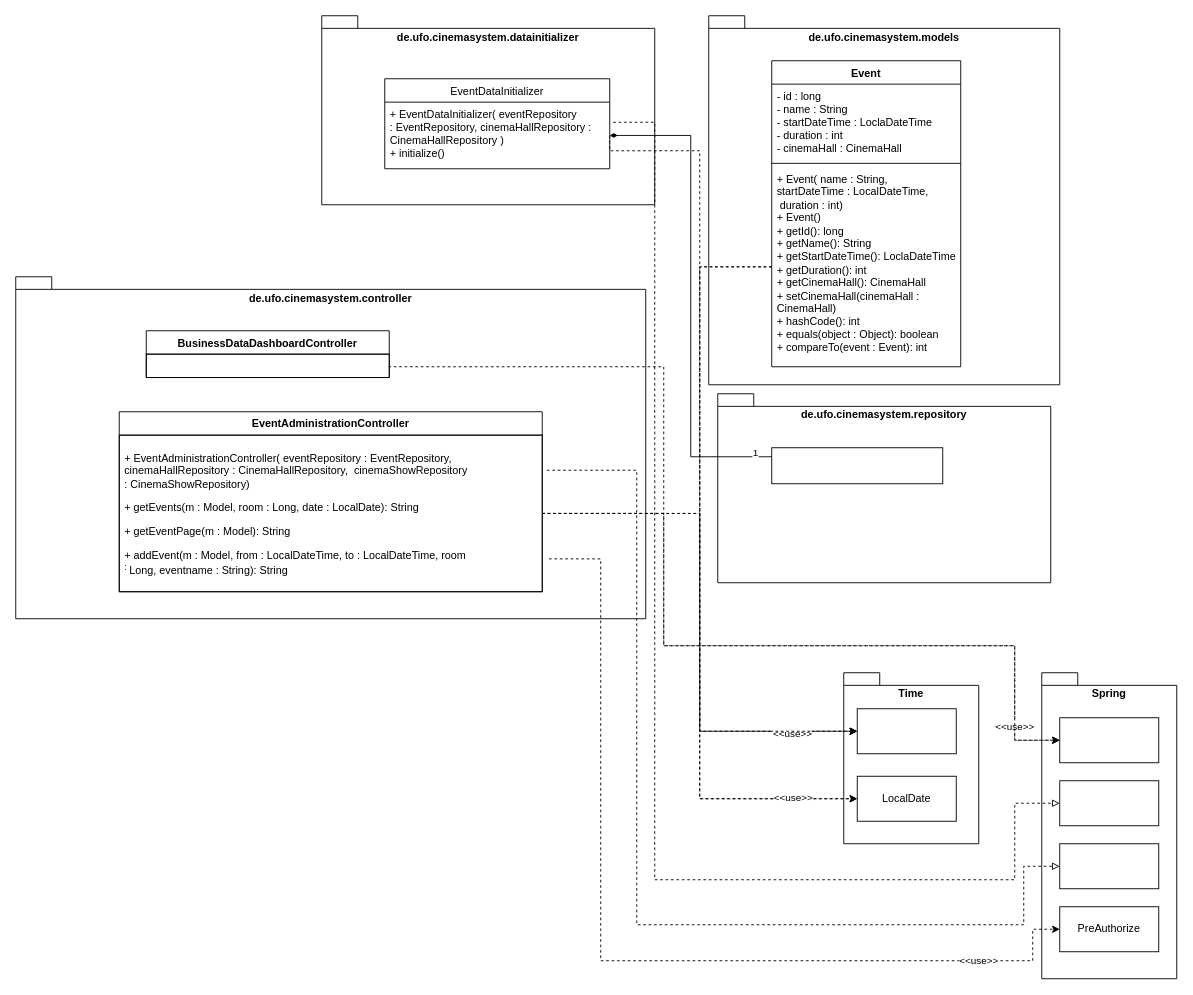
This 1193x995 diagram has some shape labels left out. The centre of each missing label's shape, as x and y in pixels:
+ getDashboard(m : Model): String: the point at 267,365
<<Interface>> EventRepository: the point at 857,465
Controller: the point at 1109,866
DataInitializer: the point at 1109,803
LocalDateTime: the point at 906,731
Model: the point at 1109,740
